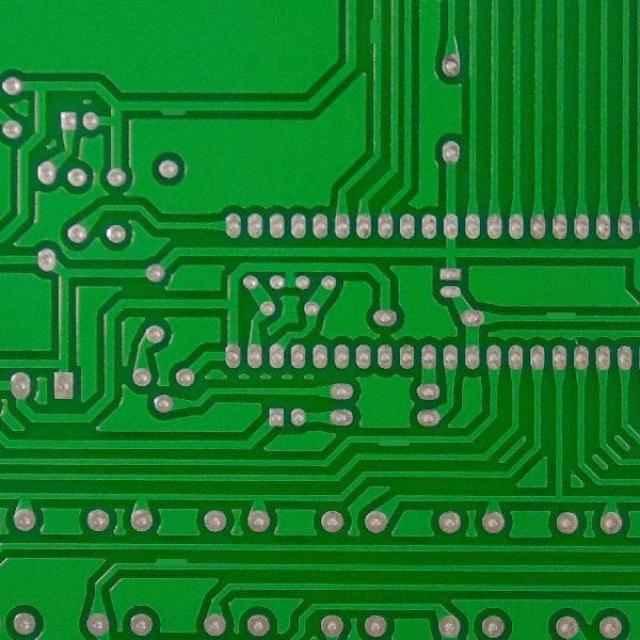Spur: (147, 552, 195, 575), (539, 307, 582, 329), (155, 95, 192, 119), (372, 431, 416, 451), (365, 12, 385, 50)
